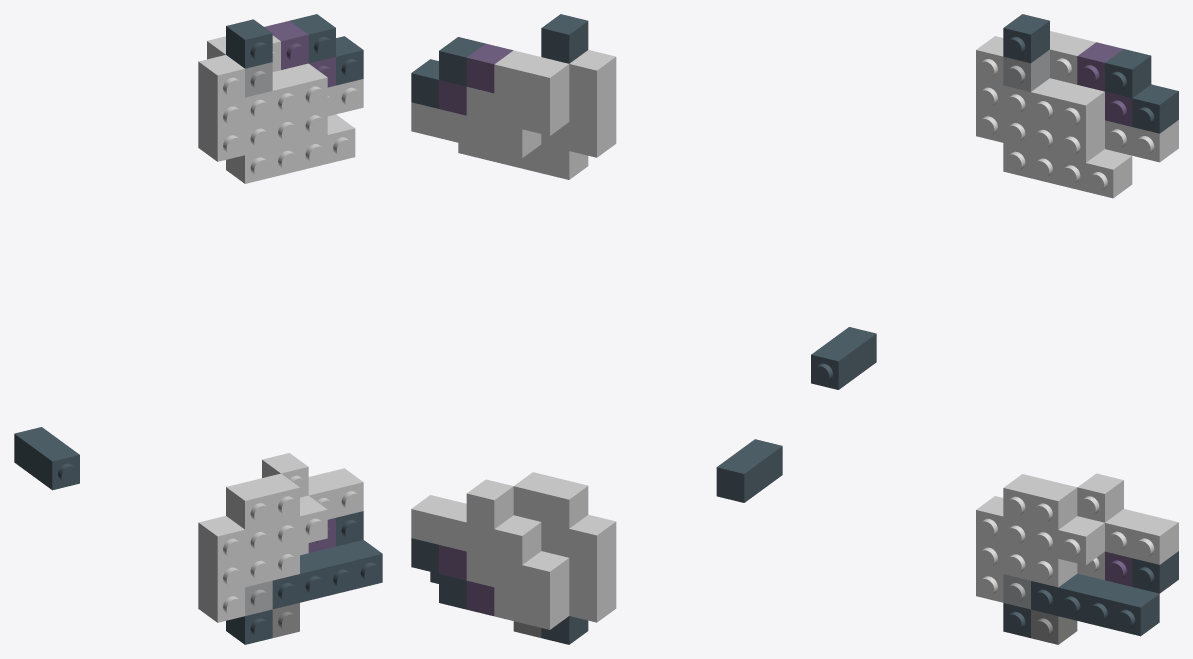
File: full.glb
3 views of the same model, side by side, from view 1: azimuth 30°, elevation 25°; view 2: azimuth 150°, elevation 25°; view 3: azimuth 330°, elevation 25° (orthographic).
Parts seen in each view (by area): view 1: world; view 2: world; view 3: world.
Boxes of the visible parts, x1,y1,x2,y2 form: world: (14, 14, 382, 644); world: (411, 14, 782, 644); world: (811, 14, 1178, 644).
Size of the model in its own units: 96 by 168 by 21.
